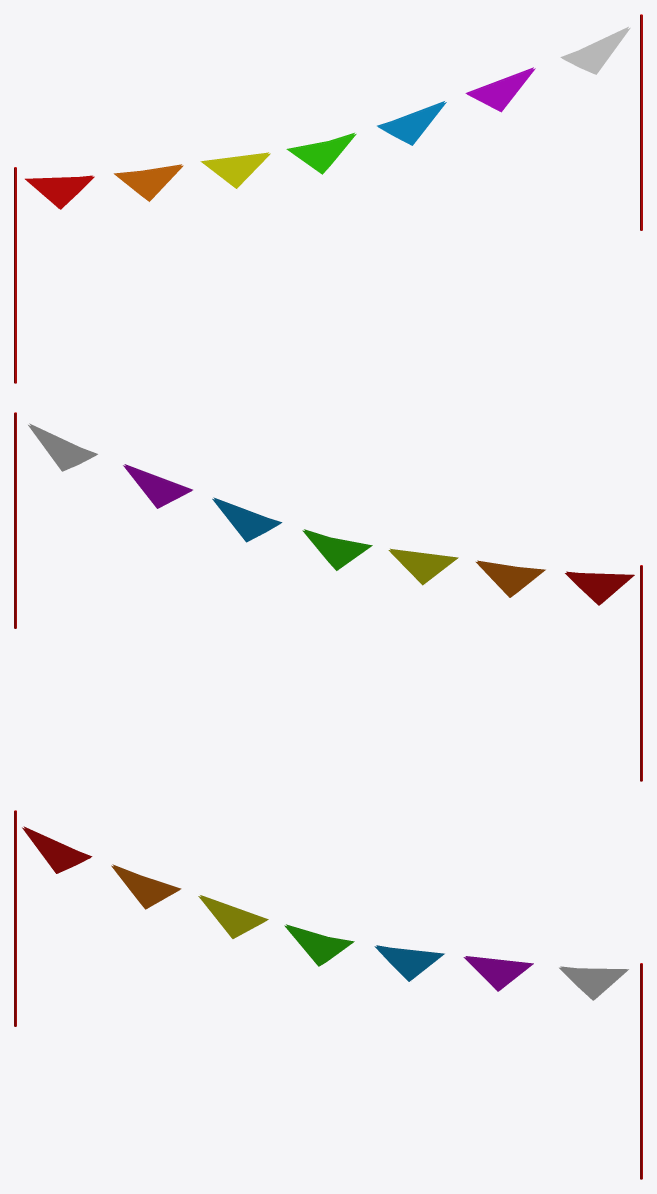
File: Center_Flag.fbx
3 renders of one model, top to bottom at view 1: azimuth 30°, elevation 25°; view 2: azimuth 150°, elevation 25°; view 3: azimuth 330°, elevation 25°, orthographic.
Visible parts, largest first — view 1: polySurface1; view 2: polySurface1; view 3: polySurface1.
Part boxes in pixels (x1,y1,x2,y2): polySurface1: (14,14,642,383); polySurface1: (14,412,642,781); polySurface1: (14,810,642,1179).
Bounding box in the file's own units: 971 × 318 × 7.28.
